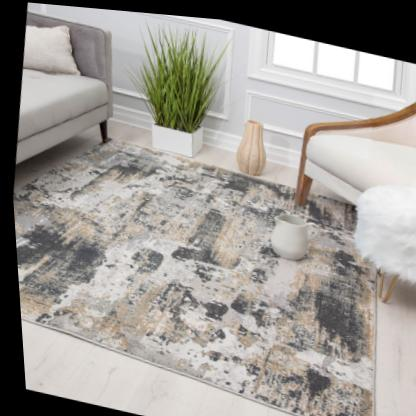Carpet: (10, 134, 374, 416)
